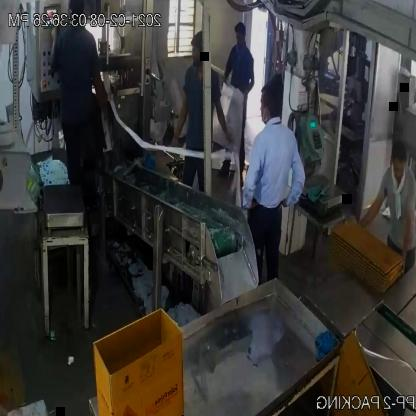no_glove: (277, 139, 309, 221), (357, 184, 388, 232), (170, 87, 191, 150), (216, 92, 236, 148), (398, 202, 414, 270), (92, 58, 110, 110)
